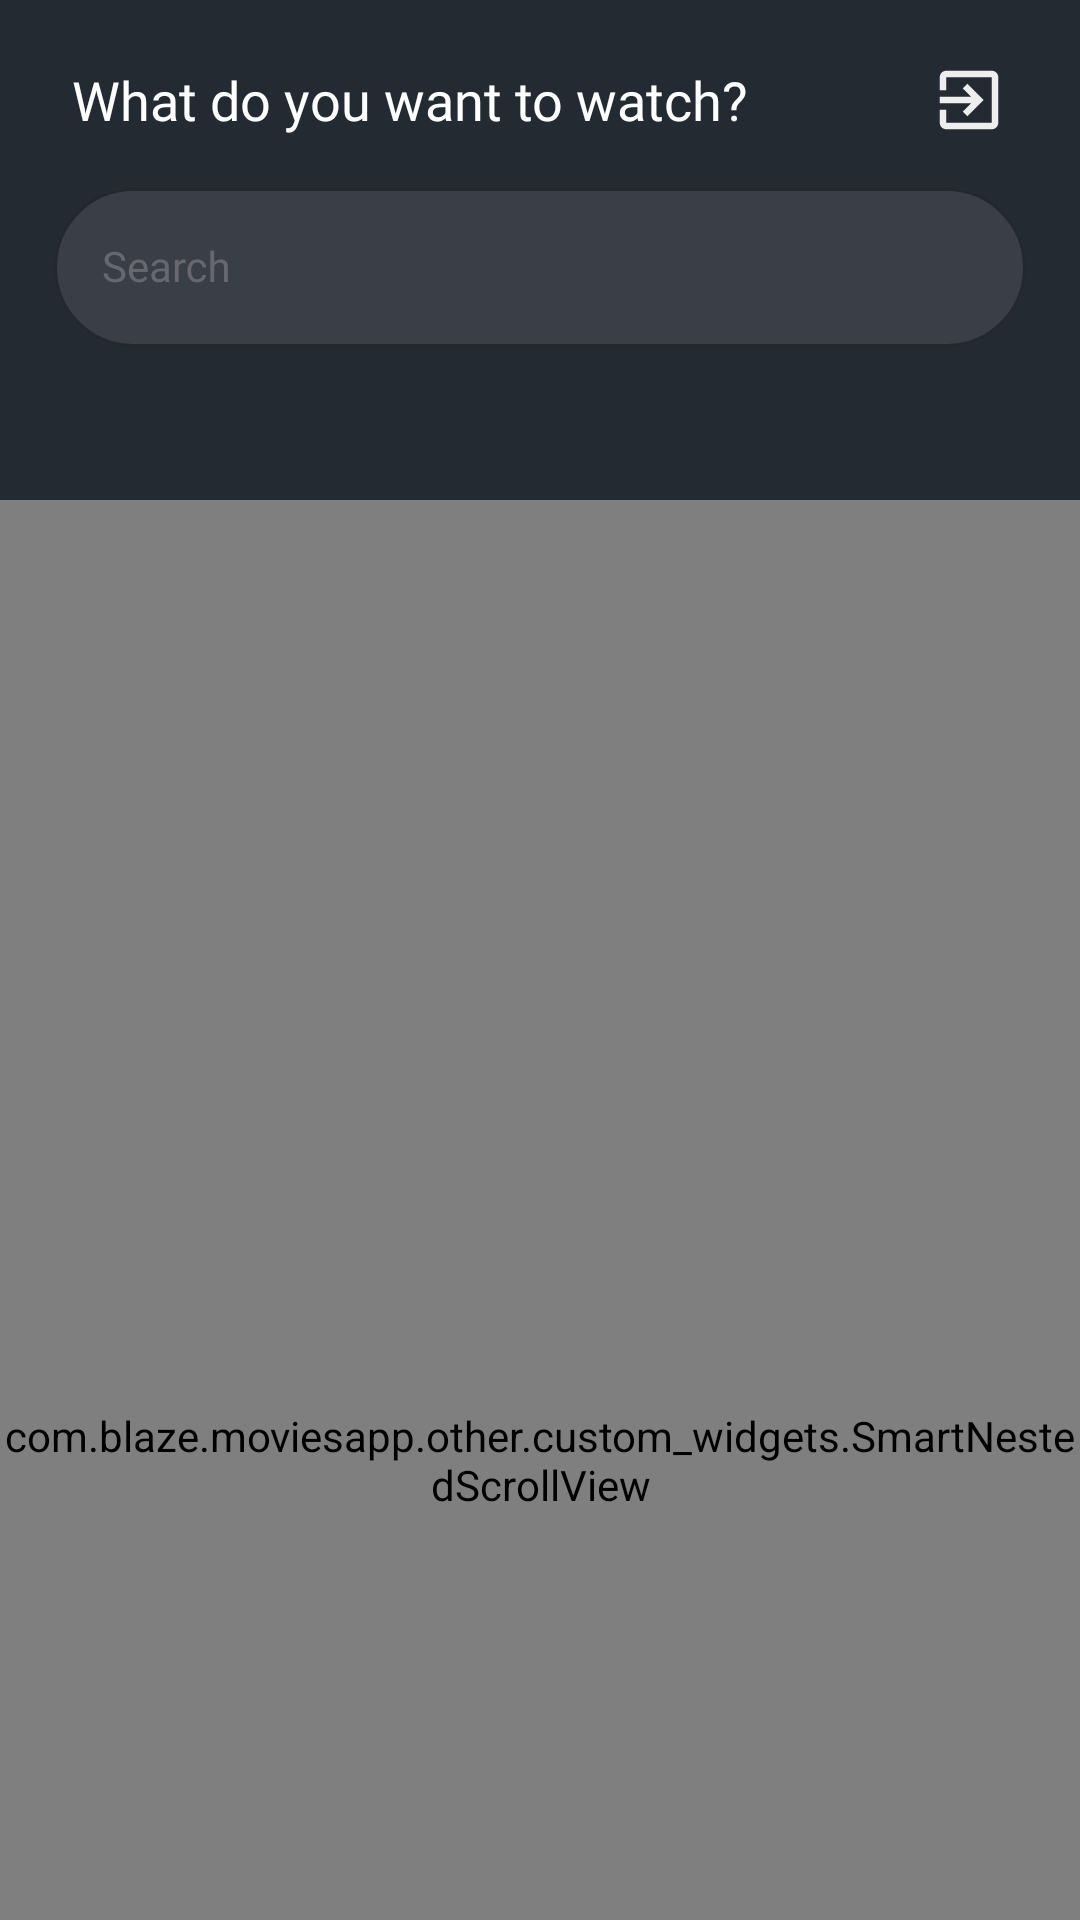

Named icons in this screenshot (1080x1920) and their bounding boxes, bbox(x1, y1, x2, y2):
exit: bbox(939, 70, 999, 130)
